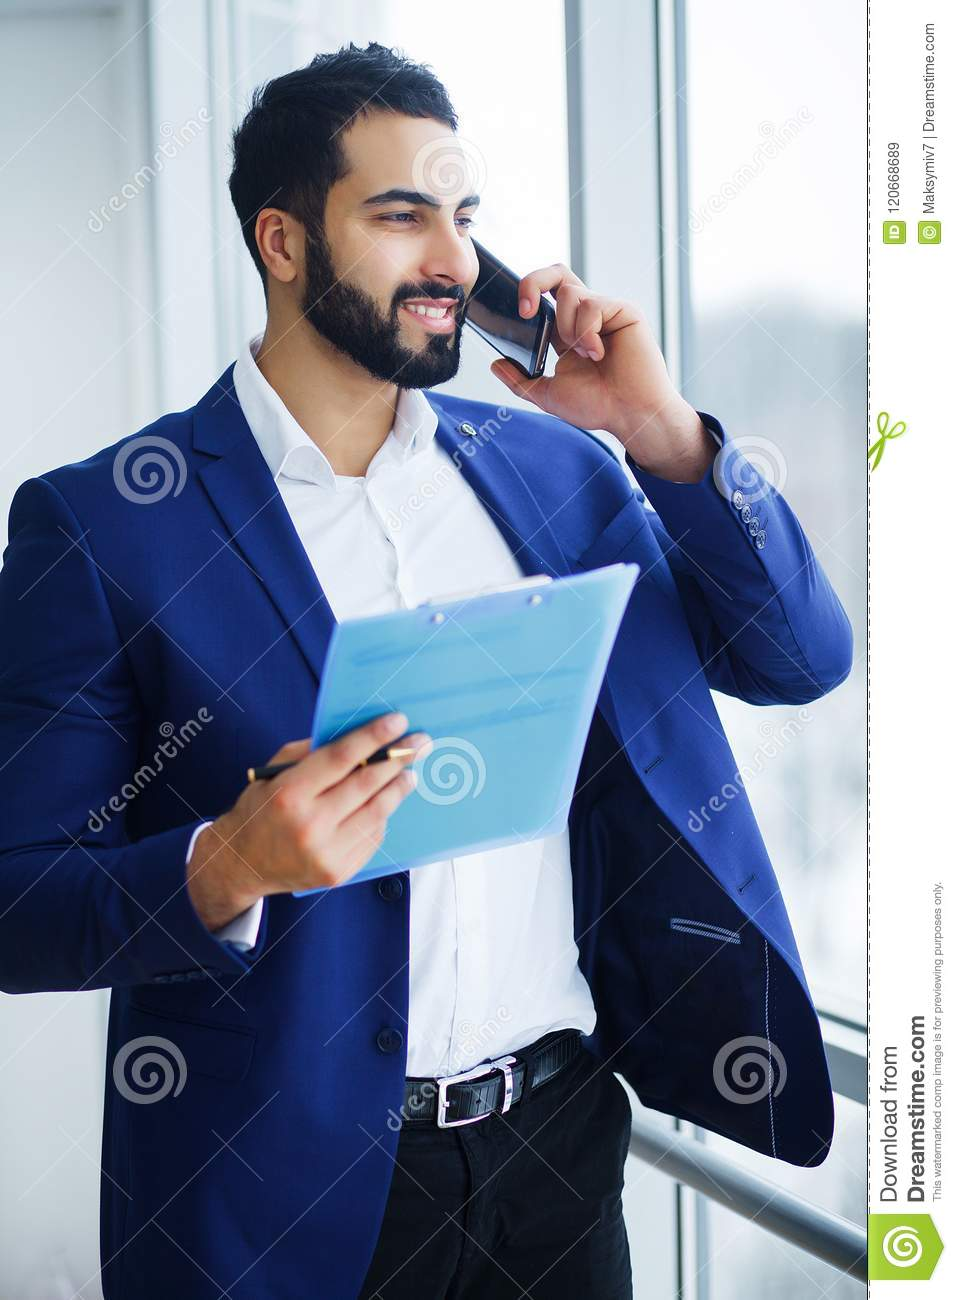phone: (467, 236, 558, 383)
talk: (348, 176, 668, 447)
